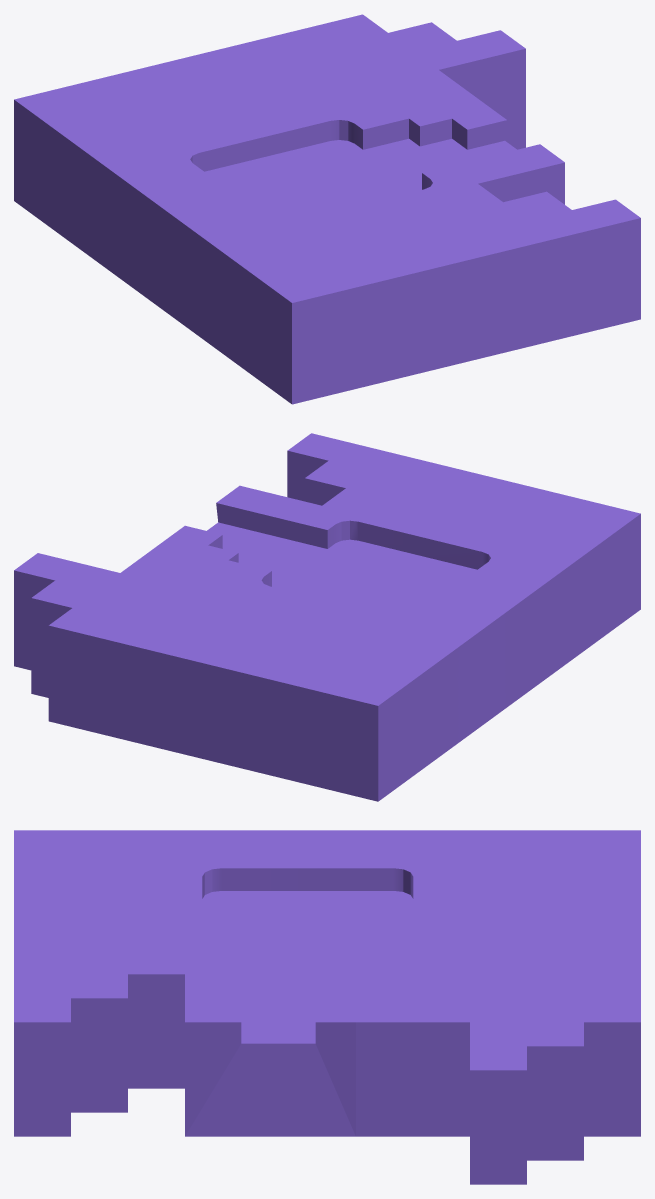
Rendered from KeyMold1.fbx.
3 views of the same model, one above another, from view 1: azimuth 30°, elevation 25°; view 2: azimuth 150°, elevation 25°; view 3: azimuth 270°, elevation 25° (orthographic). The views are drawn at different scales.
Visible parts, largest first — view 1: KeyMold1; view 2: KeyMold1; view 3: KeyMold1.
Boxes of the visible parts, box(x1,y1,x2,y2) form: KeyMold1: box(14, 14, 640, 404); KeyMold1: box(14, 433, 640, 801); KeyMold1: box(14, 830, 640, 1184).
Bounding box in the file's own units: 0.1814 × 0.0403 × 0.2004.
